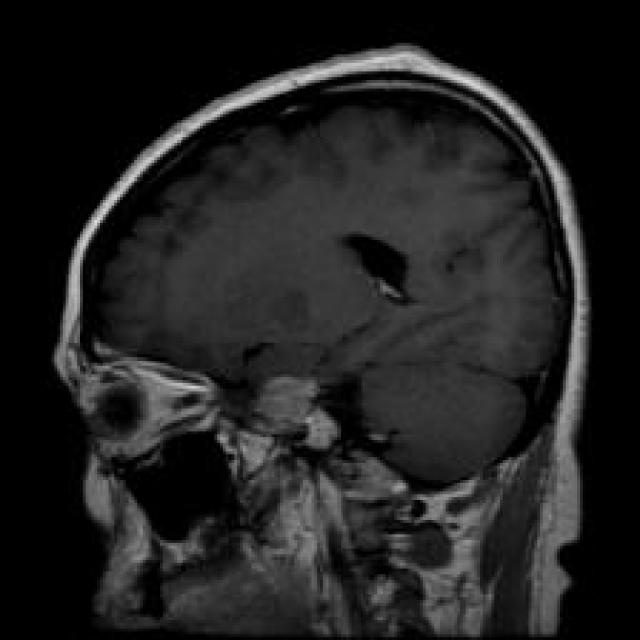pituitary_tumor: (230, 367, 360, 464)
